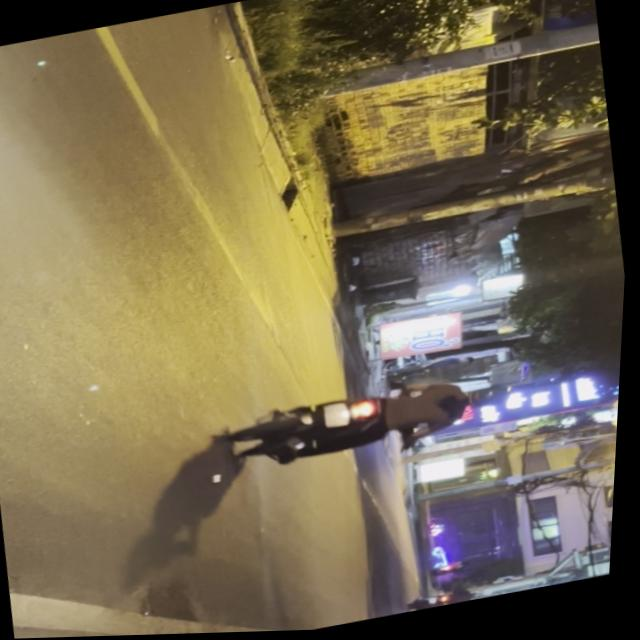helmet: (470, 383, 516, 413)
licenseplate: (229, 365, 523, 480)
nohelmet: (326, 403, 354, 431)
